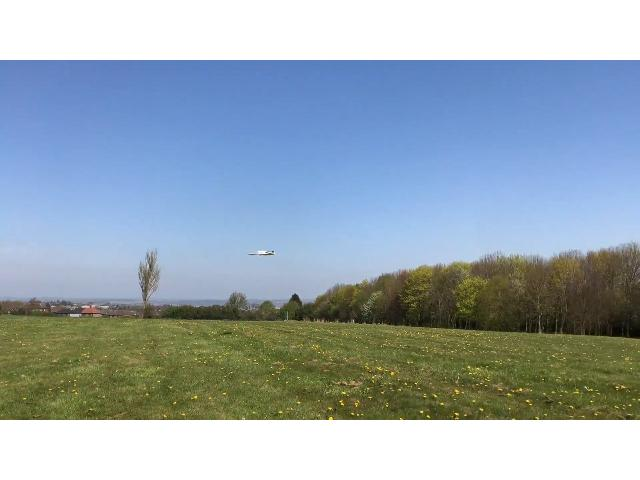Anti-Drone: (236, 242, 288, 262)
